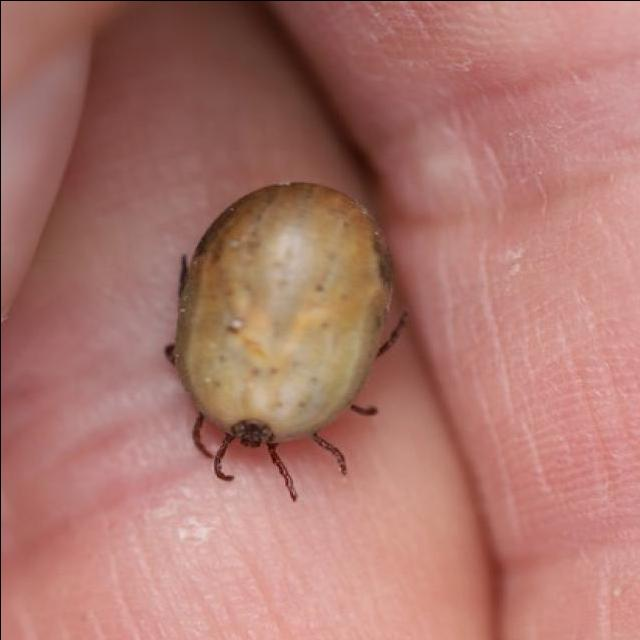Dermacentor Reticulatus-F-Fed: (163, 179, 407, 500)
